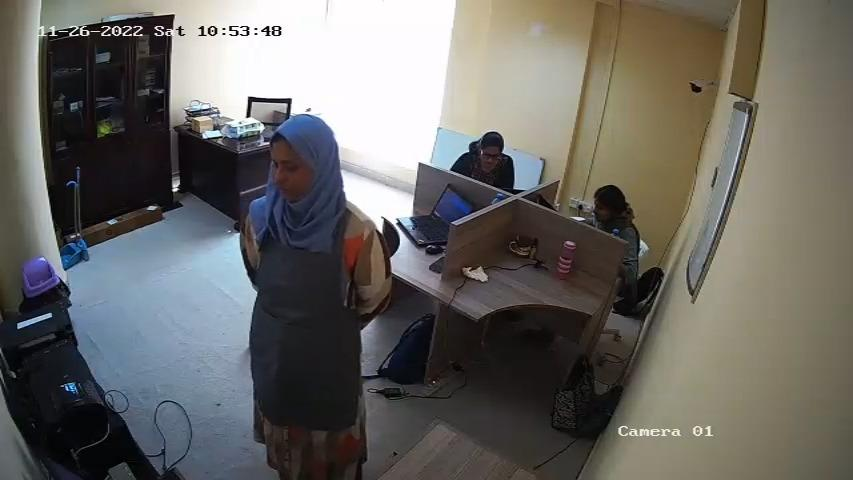apron: (240, 199, 363, 426)
